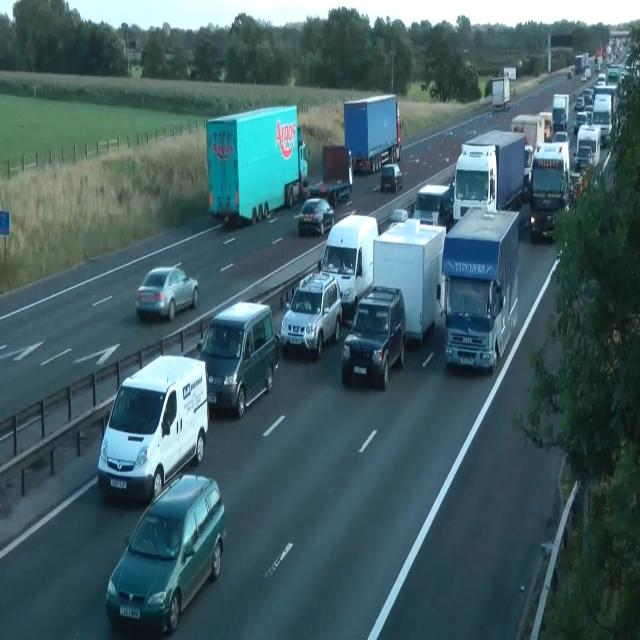bus: (135, 261, 199, 322), (297, 197, 335, 236), (380, 163, 402, 193), (573, 145, 593, 171), (573, 111, 589, 134), (552, 131, 570, 149), (390, 208, 408, 223), (574, 96, 584, 111), (597, 73, 606, 83), (580, 74, 586, 82)
jeep: (105, 471, 227, 634), (97, 353, 209, 501), (195, 300, 278, 418), (341, 284, 406, 389), (280, 270, 342, 359)
minibus: (438, 206, 520, 374), (206, 104, 310, 226), (372, 217, 446, 345), (317, 212, 379, 321), (452, 130, 525, 220), (344, 94, 402, 174), (528, 140, 570, 242), (309, 144, 353, 207), (413, 183, 453, 229), (510, 111, 554, 151), (591, 92, 613, 146), (575, 124, 601, 168), (552, 92, 569, 130), (492, 77, 510, 111), (606, 65, 622, 85), (574, 52, 588, 74), (498, 67, 516, 80)
